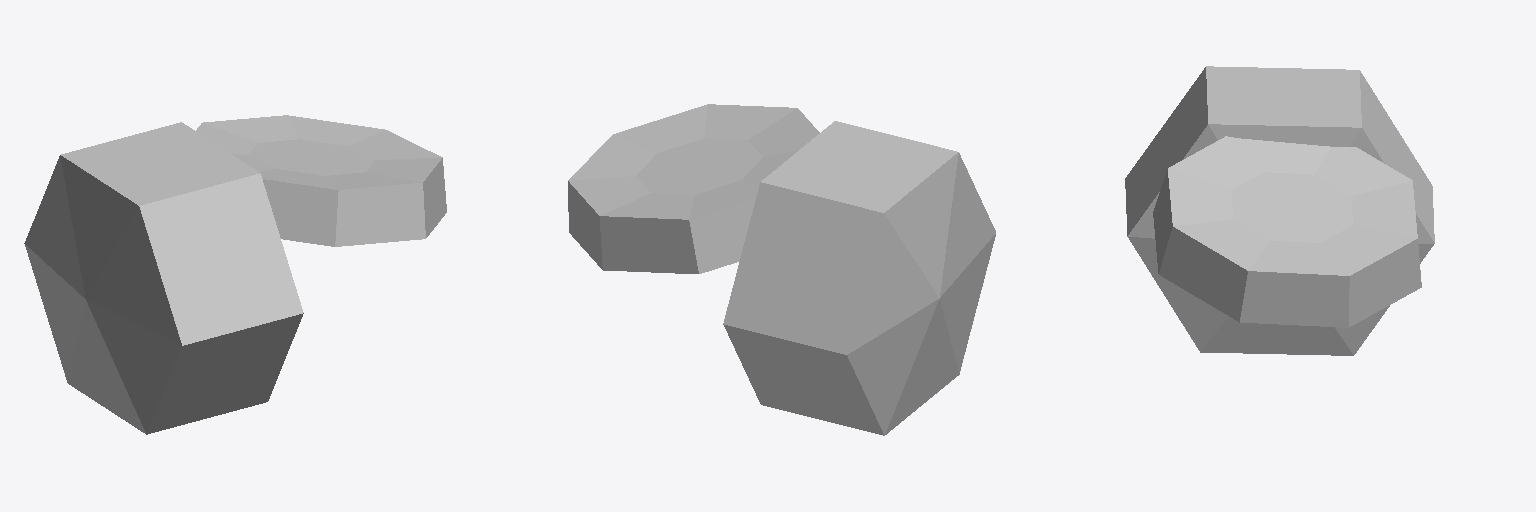
The model's file is wrist left.obj.
The picture shows the model from 3 angles: view 1: azimuth 30°, elevation 25°; view 2: azimuth 150°, elevation 25°; view 3: azimuth 270°, elevation 25°; orthographic projection.
Parts seen in each view (by area): view 1: model459.009; view 2: model459.009; view 3: model459.009.
Boxes of the visible parts, x1,y1,x2,y2 form: model459.009: [24, 115, 446, 434]; model459.009: [568, 104, 995, 435]; model459.009: [1125, 66, 1434, 355].
Size of the model in its own units: 1.72 by 1.12 by 1.35.